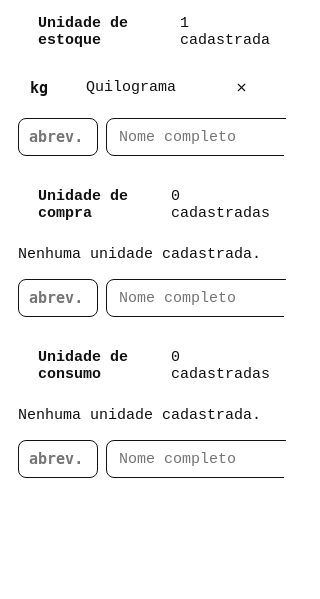
Scenario: UnidadesMedidaTab, contagem antes de excluir (B1) › não abre a confirmação se não deu para contar os produtos afetados
Expected: the text "Quilograma" is shown, [86,79,176,96]
What coordinates should you click on to do the following:
click the button titled "Remover"
I would click on:
 (242, 88)
Its box is [225,73,258,102].
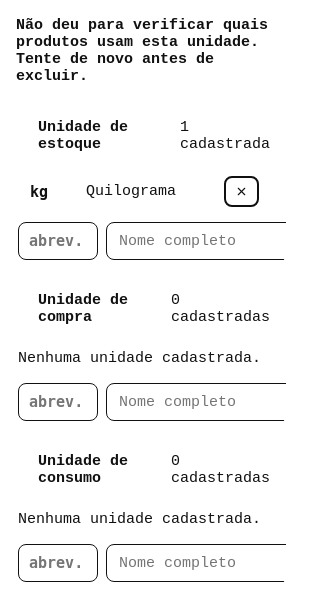
Expected: the message shows "Não deu para verificar quais produtos usam esta unidade", [16,17,268,85]
